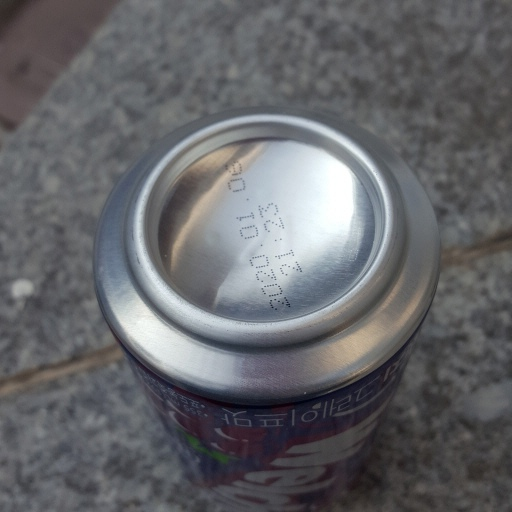Metal_0: (92, 106, 443, 510)
